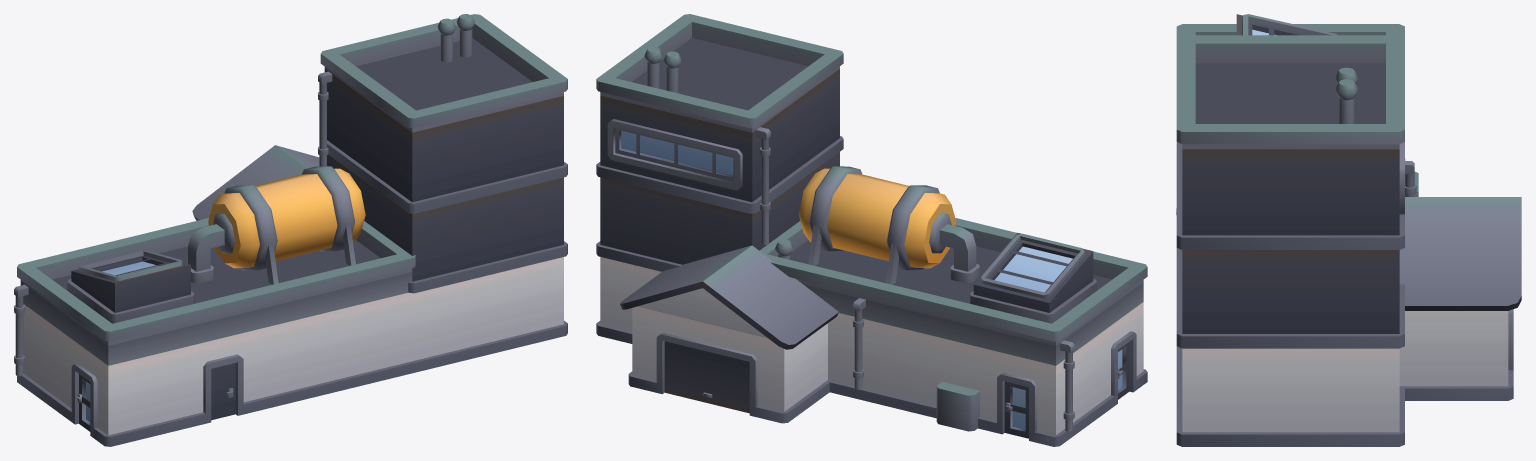
The model's file is ind_building_r.glb.
The picture shows the model from 3 angles, left to right: view 1: azimuth 30°, elevation 25°; view 2: azimuth 150°, elevation 25°; view 3: azimuth 270°, elevation 25°; orthographic projection. The views are drawn at different scales.
Parts seen in each view (by area): view 1: building-r; view 2: building-r; view 3: building-r.
Boxes of the visible parts, <box> form: building-r: <box>14,14,567,446</box>; building-r: <box>596,14,1147,446</box>; building-r: <box>1176,14,1521,446</box>.
Size of the model in its own units: 2.48 by 1.39 by 1.27.
1 material, 1 textured.
